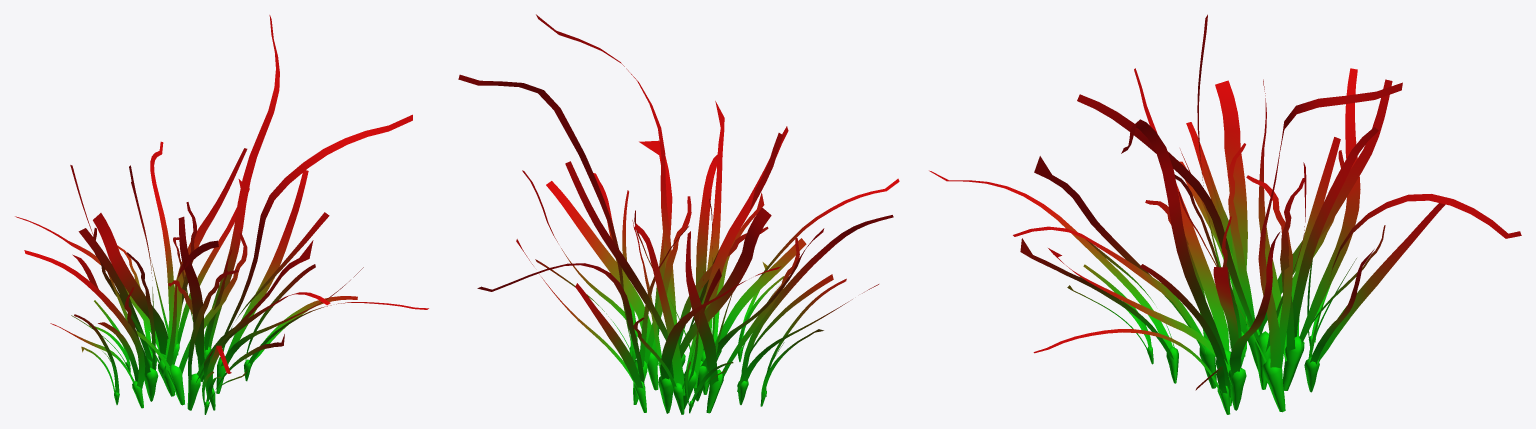
Rendered from QXL_Ribbon_Grass_tbdpec3r_3_LOD0.fbx.
The picture shows the model from 3 angles, left to right: view 1: azimuth 30°, elevation 25°; view 2: azimuth 150°, elevation 25°; view 3: azimuth 270°, elevation 25°; orthographic projection. The views are drawn at different scales.
Parts seen in each view (by area): view 1: Var4_LOD0; view 2: Var4_LOD0; view 3: Var4_LOD0.
Boxes of the visible parts, x1,y1,x2,y2 form: Var4_LOD0: (15,15,428,414); Var4_LOD0: (458,14,899,414); Var4_LOD0: (929,14,1521,414).
Size of the model in its own units: 43.61 by 35.89 by 47.85.
